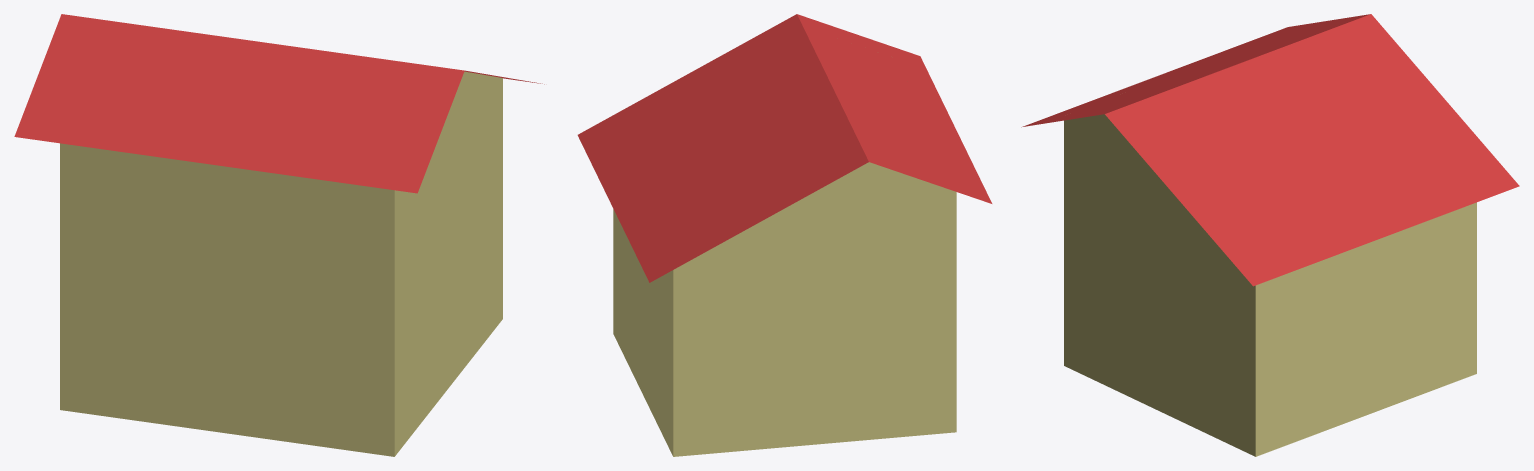
3 renders of one model, left to right at view 1: azimuth 30°, elevation 25°; view 2: azimuth 150°, elevation 25°; view 3: azimuth 270°, elevation 25°, orthographic. The views are drawn at different scales.
Size of the model in its own units: 12.28 by 12.3 by 7.9.
